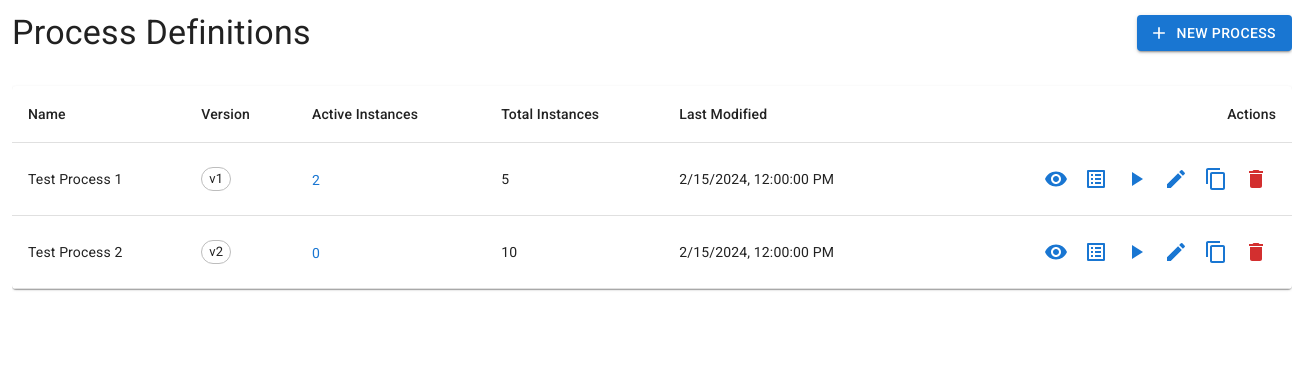
Test: ProcessList › copies a process successfully
The image size is (1304, 381).
Check: the text "Test Process 1" is shown, box [12,142,185,216]
Click the button titled "Copy Process" in the row of "Test Process 1" at {"x": 1216, "y": 179}, box [1196,159,1236,199]
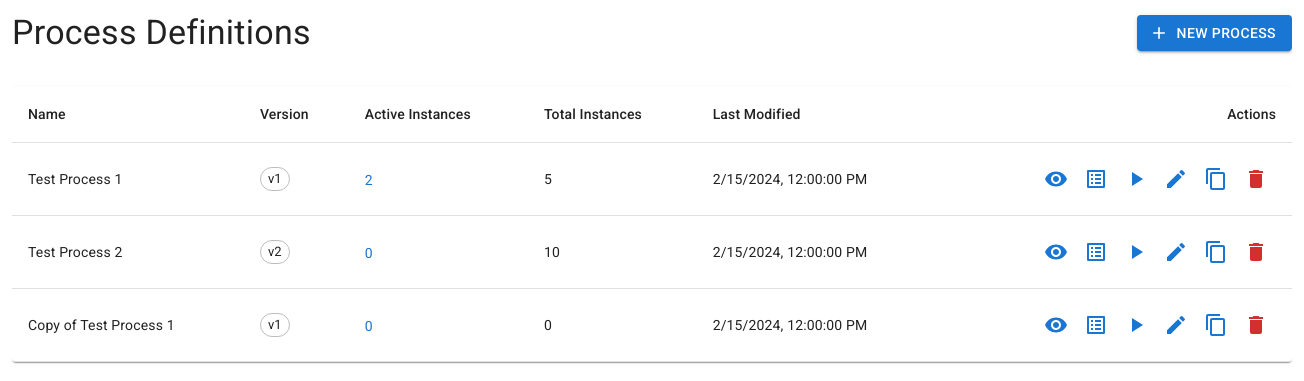
Check: the text "Copy of Test Process 1" is shown, box [12,288,244,362]
